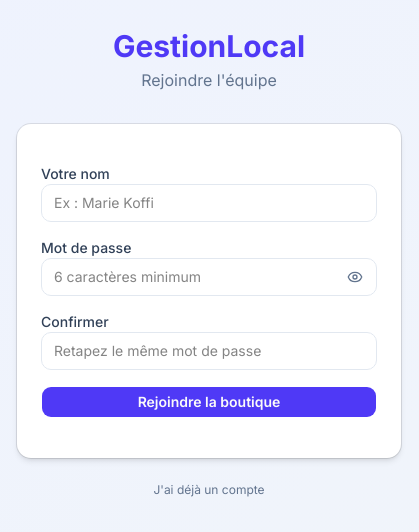
Test: /invitation/[token] › exige un nom
Expected: the field labelled "Votre nom" is shown, [41,184,377,222]
What coordinates should you click on to do the following:
click the button "Rejoindre la boutique"
I would click on:
 (209, 402)
Its box is [41,386,377,418].
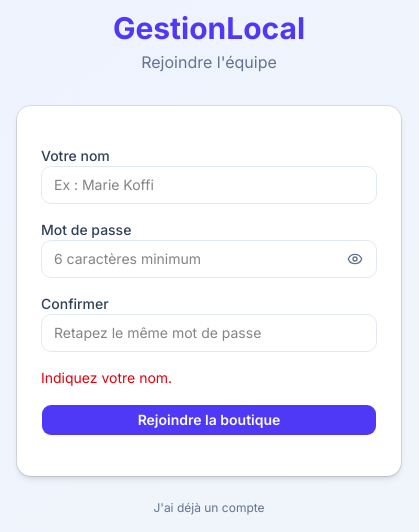
Expected: the text "Indiquez votre nom." is shown, [41,369,172,386]
